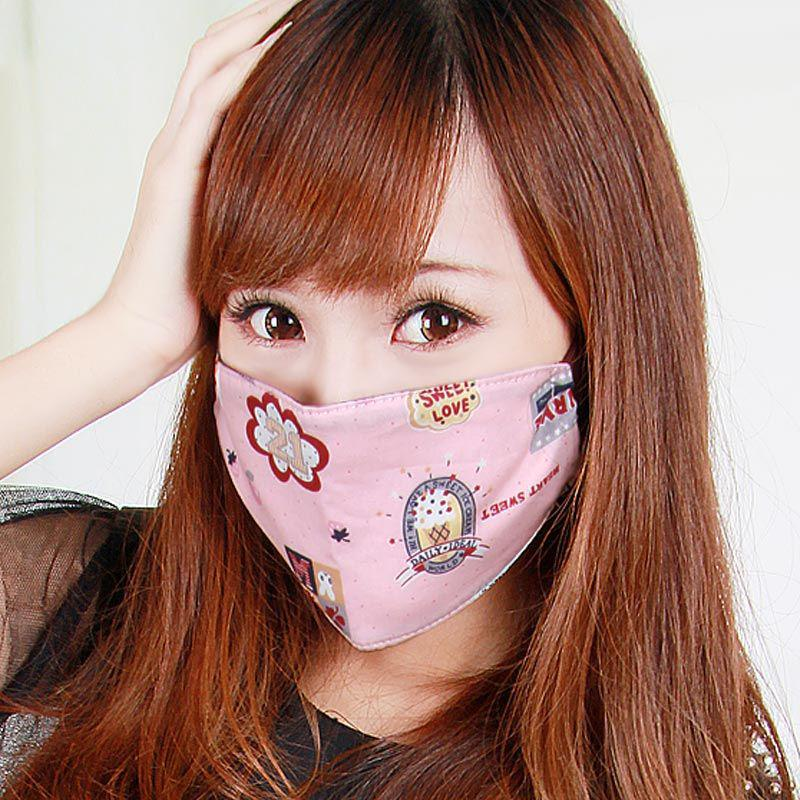OK: (199, 239, 582, 622)
